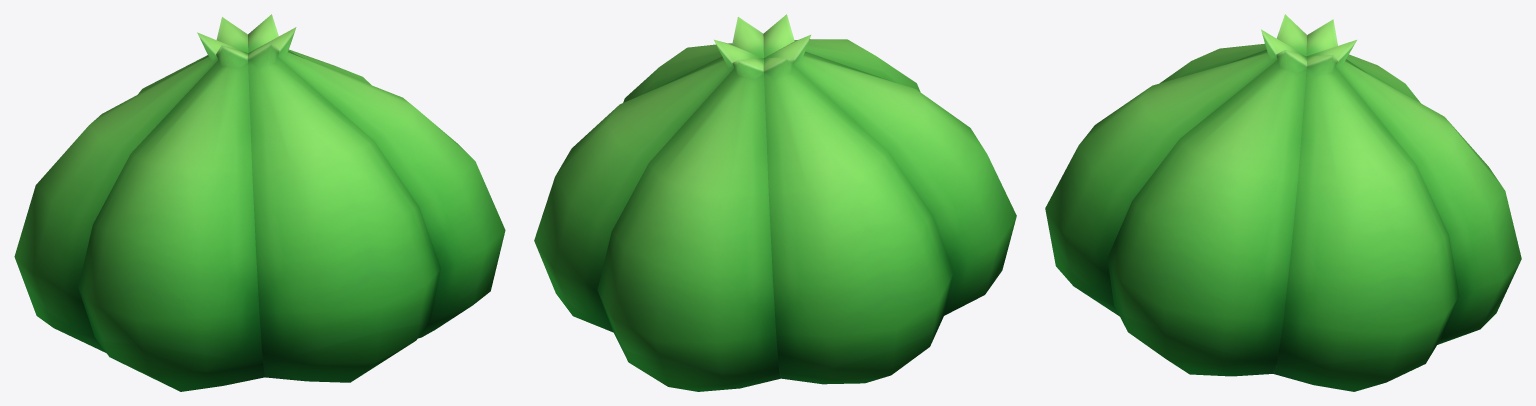
File: importerSkin17_garlic.fbx
3 views of the same model, side by side, from view 1: azimuth 30°, elevation 25°; view 2: azimuth 150°, elevation 25°; view 3: azimuth 270°, elevation 25° (orthographic). The views are drawn at different scales.
Visible parts, largest first — view 1: importerSkin17_garlic_geo; view 2: importerSkin17_garlic_geo; view 3: importerSkin17_garlic_geo.
Boxes of the visible parts, <box> form: importerSkin17_garlic_geo: <box>14,14,505,391</box>; importerSkin17_garlic_geo: <box>534,14,1016,391</box>; importerSkin17_garlic_geo: <box>1045,14,1521,391</box>.
Bounding box in the file's own units: 2.28 × 1.8 × 2.46.
1 material, 1 textured.
